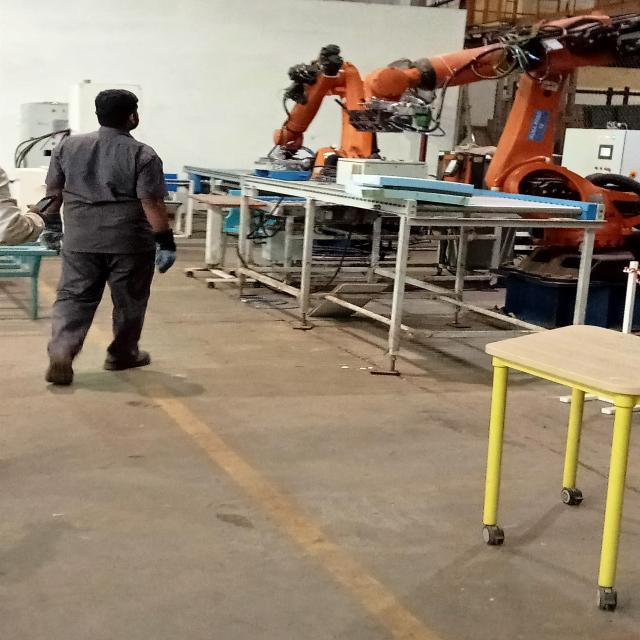Gloves-Detection: (151, 230, 177, 268), (40, 216, 62, 260)
